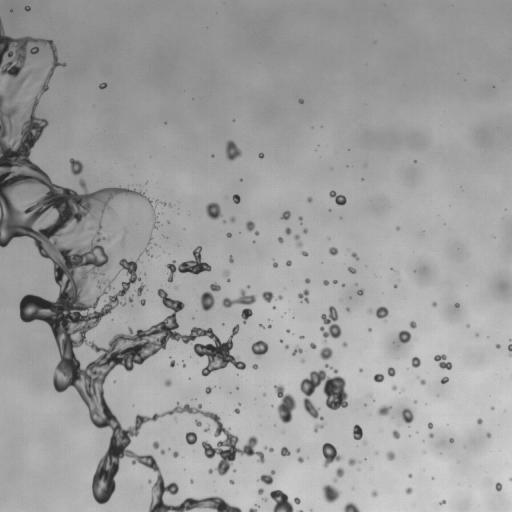droplet: (299, 363, 349, 419), (269, 489, 301, 511), (321, 442, 344, 468), (321, 484, 341, 503), (225, 140, 242, 161), (199, 291, 215, 312), (367, 306, 388, 322), (205, 202, 223, 220), (251, 340, 268, 359), (433, 354, 452, 370), (256, 469, 275, 485), (329, 190, 346, 205), (69, 158, 83, 175), (245, 220, 259, 235), (241, 308, 253, 324), (376, 404, 392, 416), (333, 467, 345, 483), (297, 288, 309, 303), (401, 408, 413, 423), (398, 330, 411, 343), (185, 432, 197, 445), (313, 422, 327, 433), (347, 456, 361, 466), (261, 291, 273, 302), (291, 344, 302, 356), (208, 282, 221, 292), (215, 145, 226, 156), (27, 150, 38, 161), (219, 205, 230, 216), (162, 207, 173, 218), (286, 216, 297, 227), (22, 235, 33, 246), (290, 251, 301, 262), (43, 259, 54, 270), (212, 290, 223, 301), (47, 291, 58, 302), (39, 321, 50, 332), (177, 324, 188, 335), (287, 335, 298, 346), (325, 336, 336, 347), (243, 353, 254, 364), (420, 354, 431, 365), (313, 359, 324, 370), (45, 364, 56, 375), (101, 380, 112, 391), (293, 391, 304, 402), (318, 404, 329, 415), (291, 405, 302, 416), (391, 407, 402, 418), (270, 409, 281, 420), (397, 421, 408, 432), (101, 426, 112, 437), (388, 439, 399, 450), (118, 455, 129, 466), (86, 463, 97, 474), (331, 479, 342, 490), (162, 493, 173, 504), (225, 495, 236, 506), (334, 497, 345, 508), (140, 500, 151, 511), (222, 269, 231, 282), (411, 356, 421, 367), (205, 385, 216, 395), (280, 446, 290, 457), (280, 210, 290, 220), (169, 356, 178, 367), (373, 373, 384, 382), (232, 194, 241, 204), (328, 246, 338, 255), (391, 429, 400, 439), (386, 450, 395, 460), (387, 366, 395, 377), (96, 503, 107, 511), (248, 504, 260, 511), (3, 28, 12, 37), (50, 175, 59, 184), (75, 186, 84, 195), (224, 222, 233, 231), (348, 258, 357, 267), (46, 269, 55, 278), (216, 276, 225, 285), (229, 291, 238, 300), (255, 295, 264, 304), (193, 298, 202, 307), (335, 305, 344, 314), (336, 308, 345, 317), (269, 310, 278, 319), (234, 314, 243, 323), (140, 322, 149, 331), (84, 330, 93, 339), (299, 339, 308, 348), (114, 363, 123, 372), (325, 369, 334, 378), (315, 383, 324, 392), (109, 405, 118, 414), (193, 426, 202, 435), (196, 432, 205, 441), (235, 440, 244, 449), (193, 441, 202, 450), (100, 442, 109, 451), (151, 450, 160, 459), (288, 451, 297, 460), (212, 453, 221, 462), (329, 460, 338, 469), (148, 470, 157, 479), (404, 478, 413, 487), (264, 483, 273, 492), (316, 489, 325, 498), (267, 498, 276, 507), (203, 423, 211, 433), (347, 266, 356, 274), (440, 376, 449, 384), (494, 482, 502, 491), (437, 505, 448, 511), (351, 252, 359, 260), (164, 379, 172, 387), (284, 227, 291, 236), (239, 504, 248, 511), (99, 82, 107, 89), (356, 288, 364, 295), (275, 294, 283, 301), (409, 321, 416, 329), (194, 418, 201, 426), (152, 441, 159, 449), (485, 478, 492, 486), (257, 488, 264, 496), (272, 258, 278, 267), (306, 196, 313, 203), (309, 342, 316, 349), (297, 456, 304, 463), (405, 487, 412, 494), (3, 72, 10, 79), (33, 111, 40, 118), (33, 140, 40, 147), (235, 141, 242, 148), (219, 143, 226, 150), (234, 155, 241, 162), (78, 171, 85, 178), (62, 181, 69, 188), (86, 186, 93, 193), (207, 196, 214, 203), (155, 204, 162, 211), (200, 208, 207, 215), (206, 216, 213, 223), (214, 216, 221, 223), (282, 219, 289, 226), (239, 223, 246, 230), (279, 230, 286, 237), (299, 233, 306, 240), (11, 236, 18, 243), (329, 240, 336, 247), (294, 247, 301, 254), (140, 253, 147, 260), (278, 259, 285, 266), (225, 262, 232, 269), (199, 270, 206, 277), (133, 280, 140, 287), (301, 282, 308, 289), (244, 289, 251, 296), (124, 290, 131, 297), (132, 295, 139, 302), (195, 302, 202, 309), (175, 310, 182, 317), (100, 315, 107, 322), (316, 318, 323, 325), (403, 324, 410, 331), (467, 327, 474, 334), (122, 328, 129, 335), (106, 333, 113, 340), (478, 333, 485, 340), (326, 335, 333, 342), (336, 335, 343, 342), (219, 336, 226, 343), (166, 337, 173, 344), (500, 343, 507, 350), (315, 344, 322, 351), (228, 348, 235, 355), (54, 355, 61, 362), (325, 357, 332, 364), (405, 358, 412, 365), (226, 361, 233, 368), (245, 361, 252, 368), (380, 368, 387, 375), (441, 368, 448, 375), (336, 370, 343, 377), (104, 375, 111, 382), (318, 380, 325, 387), (67, 385, 74, 392), (342, 385, 349, 392), (344, 395, 351, 402), (275, 397, 282, 404), (105, 399, 112, 406), (189, 401, 196, 408), (375, 401, 382, 408), (209, 406, 216, 413), (303, 411, 310, 418), (196, 413, 203, 420), (380, 414, 387, 421), (275, 417, 282, 424), (285, 420, 292, 427), (120, 422, 127, 429), (140, 422, 147, 429), (210, 422, 217, 429), (191, 425, 198, 432), (347, 425, 354, 432), (229, 428, 236, 435), (218, 433, 225, 440), (125, 443, 132, 450), (252, 444, 259, 451), (273, 447, 280, 454), (135, 448, 142, 455), (262, 449, 269, 456), (393, 449, 400, 456), (251, 453, 258, 460), (353, 453, 360, 460), (380, 453, 387, 460), (155, 458, 162, 465), (134, 461, 141, 468), (212, 469, 219, 476), (112, 474, 119, 481), (86, 475, 93, 482), (150, 475, 157, 482), (259, 481, 266, 488), (110, 491, 117, 498), (191, 492, 198, 499), (286, 496, 293, 503), (354, 501, 361, 508), (291, 503, 298, 510), (371, 489, 377, 497), (438, 499, 446, 505), (190, 506, 199, 511), (258, 152, 264, 159), (229, 216, 235, 223), (277, 236, 283, 243), (285, 260, 292, 266), (139, 299, 145, 306), (391, 384, 397, 391), (476, 418, 482, 425), (427, 422, 433, 429), (172, 451, 179, 457), (261, 496, 268, 502), (24, 5, 30, 11), (302, 228, 308, 234), (431, 301, 437, 307), (22, 0, 31, 4), (454, 302, 459, 309), (399, 387, 404, 394), (233, 408, 240, 413), (229, 255, 233, 263), (304, 278, 310, 283), (323, 280, 329, 285), (345, 307, 350, 313), (259, 323, 264, 329), (474, 332, 479, 338), (342, 341, 347, 347), (284, 344, 289, 350), (252, 364, 258, 369), (486, 432, 491, 438), (449, 437, 454, 443), (295, 447, 300, 453), (298, 98, 303, 103), (226, 232, 231, 237), (332, 279, 337, 284), (285, 328, 290, 333), (300, 358, 305, 363), (428, 433, 433, 438), (160, 449, 165, 454), (229, 479, 234, 484), (31, 33, 36, 38), (46, 34, 51, 39), (52, 40, 57, 45), (56, 57, 61, 62), (55, 65, 60, 70), (44, 115, 49, 120), (42, 127, 47, 132), (73, 155, 78, 160), (80, 159, 85, 164), (66, 161, 71, 166), (38, 164, 43, 169), (81, 166, 86, 171), (113, 182, 118, 187), (103, 183, 108, 188), (121, 183, 126, 188), (98, 184, 103, 189), (128, 185, 133, 190), (144, 191, 149, 196), (305, 192, 310, 197), (238, 193, 243, 198), (302, 195, 307, 200), (311, 195, 316, 200), (159, 196, 164, 201), (330, 196, 335, 201), (345, 198, 350, 203), (303, 200, 308, 205), (310, 200, 315, 205), (337, 204, 342, 209), (250, 217, 255, 222), (253, 225, 258, 230), (306, 226, 311, 231), (249, 229, 254, 234), (289, 231, 294, 236), (298, 231, 303, 236), (333, 243, 338, 248), (33, 246, 38, 251), (302, 246, 307, 251), (336, 246, 341, 251), (350, 247, 355, 252), (148, 249, 153, 254), (346, 251, 351, 256), (356, 252, 361, 257), (330, 254, 335, 259), (189, 255, 194, 260), (224, 255, 229, 260), (350, 256, 355, 261), (45, 257, 50, 262), (200, 257, 205, 262), (290, 261, 295, 266), (136, 263, 141, 268), (134, 269, 139, 274), (174, 269, 179, 274), (185, 271, 190, 276), (305, 273, 310, 278), (300, 275, 305, 280), (327, 277, 332, 282), (336, 280, 341, 285), (328, 281, 333, 286), (241, 284, 246, 289), (356, 284, 361, 289), (264, 286, 269, 291), (141, 287, 146, 292), (206, 287, 211, 292), (152, 289, 157, 294), (198, 290, 203, 295), (210, 290, 215, 295), (272, 293, 277, 298), (138, 294, 143, 299), (306, 294, 311, 299), (117, 295, 122, 300), (431, 296, 436, 301), (16, 297, 21, 302), (270, 297, 275, 302), (427, 299, 432, 304), (125, 301, 130, 306), (376, 302, 381, 307), (243, 303, 248, 308), (385, 304, 390, 309), (435, 304, 440, 309), (431, 306, 436, 311), (208, 307, 213, 312), (371, 307, 376, 312), (15, 308, 20, 313), (110, 308, 115, 313), (168, 308, 173, 313), (324, 310, 329, 315), (371, 312, 376, 317), (247, 315, 252, 320), (383, 315, 388, 320), (16, 316, 21, 321), (158, 316, 163, 321), (408, 316, 413, 321), (378, 317, 383, 322), (334, 319, 339, 324), (20, 320, 25, 325), (415, 321, 420, 326), (238, 322, 243, 327), (202, 325, 207, 330), (339, 326, 344, 331), (212, 329, 217, 334), (227, 329, 232, 334), (185, 330, 190, 335), (318, 330, 323, 335), (409, 335, 414, 340), (231, 336, 236, 341), (394, 336, 399, 341), (252, 337, 257, 342), (262, 337, 267, 342), (177, 338, 182, 343), (282, 339, 287, 344), (399, 341, 404, 346), (404, 341, 409, 346), (96, 342, 101, 347), (279, 342, 284, 347), (52, 343, 57, 348), (104, 344, 109, 349), (342, 346, 347, 351), (288, 347, 293, 352), (158, 348, 163, 353), (247, 348, 252, 353), (153, 352, 158, 357), (330, 352, 335, 357), (193, 353, 198, 358), (259, 353, 264, 358), (416, 353, 421, 358), (202, 354, 207, 359), (323, 358, 328, 363), (419, 358, 424, 363), (142, 359, 147, 364), (165, 359, 170, 364), (434, 360, 439, 365), (450, 361, 455, 366), (389, 362, 394, 367), (332, 364, 337, 369), (450, 365, 455, 370), (414, 366, 419, 371), (314, 367, 319, 372), (216, 368, 221, 373), (237, 368, 242, 373), (128, 369, 133, 374), (374, 369, 379, 374), (209, 370, 214, 375), (383, 372, 388, 377), (369, 373, 374, 378), (419, 374, 424, 379), (160, 377, 165, 382), (297, 377, 302, 382), (424, 377, 429, 382), (170, 378, 175, 383), (415, 379, 420, 384), (373, 380, 378, 385), (169, 383, 174, 388), (49, 384, 54, 389), (420, 384, 425, 389), (395, 386, 400, 391), (102, 392, 107, 397), (75, 393, 80, 398), (80, 401, 85, 406), (384, 401, 389, 406), (179, 402, 184, 407), (233, 403, 238, 408), (168, 405, 173, 410), (237, 405, 242, 410), (200, 406, 205, 411), (398, 406, 403, 411), (387, 408, 392, 413), (156, 409, 161, 414), (182, 410, 187, 415), (411, 410, 416, 415), (139, 411, 144, 416), (172, 411, 177, 416), (147, 412, 152, 417), (164, 413, 169, 418), (156, 416, 161, 421), (472, 416, 477, 421), (314, 417, 319, 422), (400, 419, 405, 424), (481, 419, 486, 424), (472, 420, 477, 425), (408, 421, 413, 426), (222, 423, 227, 428), (91, 424, 96, 429), (360, 425, 365, 430), (186, 427, 191, 432), (361, 428, 366, 433), (427, 428, 432, 433), (410, 431, 415, 436), (388, 432, 393, 437), (490, 432, 495, 437), (481, 433, 486, 438), (129, 435, 134, 440), (424, 435, 429, 440), (152, 436, 157, 441), (390, 436, 395, 441), (181, 437, 186, 442), (357, 438, 362, 443), (331, 441, 336, 446), (211, 443, 216, 448), (157, 445, 162, 450), (286, 445, 291, 450), (199, 447, 204, 452), (317, 448, 322, 453), (168, 449, 173, 454), (177, 451, 182, 456), (297, 451, 302, 456), (283, 454, 288, 459), (202, 455, 207, 460), (320, 455, 325, 460), (128, 456, 133, 461), (302, 457, 307, 462), (389, 459, 394, 464), (294, 460, 299, 465), (353, 462, 358, 467), (203, 467, 208, 472), (227, 467, 232, 472), (265, 470, 270, 475), (342, 472, 347, 477), (271, 474, 276, 479), (337, 476, 342, 481), (163, 481, 168, 486), (176, 482, 181, 487), (403, 483, 408, 488), (490, 484, 495, 489), (500, 486, 505, 491), (87, 487, 92, 492), (281, 488, 286, 493), (400, 488, 405, 493), (411, 488, 416, 493), (366, 490, 371, 495), (376, 490, 381, 495), (207, 492, 212, 497), (89, 495, 94, 500), (371, 496, 376, 501), (91, 498, 96, 503), (396, 226, 400, 231), (173, 286, 178, 290), (495, 344, 500, 348), (358, 368, 363, 372), (413, 399, 417, 404), (374, 450, 378, 455), (408, 473, 412, 478), (190, 478, 193, 484), (222, 219, 226, 223), (341, 283, 345, 287), (354, 282, 358, 286), (246, 285, 250, 289), (393, 284, 397, 288), (267, 324, 271, 328), (279, 339, 283, 343), (262, 392, 266, 396), (237, 402, 241, 406), (490, 406, 494, 410), (462, 445, 466, 449), (267, 318, 272, 321), (256, 508, 261, 511), (303, 508, 308, 511), (312, 508, 317, 511), (232, 118, 235, 122), (413, 160, 417, 163), (145, 180, 148, 184), (166, 220, 170, 223), (252, 239, 255, 243), (272, 306, 276, 309), (466, 324, 470, 327), (422, 450, 426, 453), (232, 469, 236, 472), (356, 468, 360, 471), (508, 477, 511, 481), (148, 479, 151, 483), (351, 486, 354, 490), (309, 508, 313, 511), (0, 66, 2, 71), (0, 245, 2, 250), (211, 154, 214, 157), (328, 208, 331, 211), (339, 216, 342, 219), (327, 237, 330, 240), (413, 269, 416, 272), (291, 316, 294, 319), (368, 328, 371, 331), (113, 380, 116, 383), (436, 394, 439, 397), (364, 403, 367, 406), (270, 404, 273, 407), (503, 409, 506, 412), (408, 434, 411, 437), (431, 476, 434, 479), (24, 2, 27, 5), (29, 4, 32, 7), (21, 5, 24, 8), (6, 8, 9, 11), (12, 8, 15, 11), (23, 9, 26, 12), (28, 9, 31, 12), (8, 11, 11, 14), (65, 62, 68, 65), (63, 65, 66, 68), (50, 75, 53, 78), (101, 79, 104, 82), (96, 82, 99, 85), (106, 82, 109, 85), (47, 83, 50, 86), (494, 84, 497, 87), (96, 86, 99, 89), (102, 87, 105, 90), (491, 87, 494, 90), (44, 90, 47, 93), (303, 99, 306, 102), (299, 103, 302, 106), (229, 117, 232, 120), (163, 118, 166, 121), (234, 119, 237, 122), (166, 120, 169, 123), (162, 123, 165, 126), (347, 145, 350, 148), (316, 146, 319, 149), (258, 149, 261, 152), (347, 150, 350, 153), (209, 151, 212, 154), (213, 152, 216, 155), (255, 154, 258, 157), (263, 154, 266, 157), (209, 156, 212, 159), (413, 156, 416, 159), (257, 157, 260, 160), (416, 159, 419, 162), (345, 161, 348, 164), (412, 162, 415, 165), (348, 164, 351, 167), (362, 175, 365, 178), (357, 177, 360, 180), (143, 178, 146, 181), (236, 178, 239, 181), (242, 178, 245, 181), (361, 180, 364, 183), (239, 181, 242, 184), (146, 182, 149, 185), (135, 188, 138, 191), (328, 188, 331, 191), (234, 191, 237, 194), (326, 193, 329, 196), (229, 196, 232, 199), (165, 200, 168, 203), (151, 201, 154, 204), (170, 202, 173, 205), (233, 202, 236, 205), (176, 209, 179, 212), (154, 210, 157, 213), (326, 210, 329, 213), (279, 213, 282, 216), (299, 213, 302, 216), (282, 218, 285, 221), (169, 219, 172, 222), (297, 219, 300, 222), (301, 219, 304, 222), (154, 222, 157, 225), (167, 223, 170, 226), (397, 223, 400, 226), (393, 224, 396, 227), (157, 226, 160, 229), (153, 227, 156, 230), (399, 227, 402, 230), (393, 228, 396, 231), (227, 229, 230, 232), (258, 231, 261, 234), (306, 231, 309, 234), (164, 233, 167, 236), (231, 233, 234, 236), (224, 235, 227, 238), (227, 237, 230, 240), (150, 239, 153, 242), (275, 239, 278, 242), (253, 242, 256, 245), (146, 245, 149, 248), (191, 247, 194, 250), (142, 251, 145, 254), (199, 251, 202, 254), (228, 251, 231, 254), (307, 252, 310, 255), (139, 255, 142, 258), (147, 255, 150, 258), (302, 255, 305, 258), (151, 256, 154, 259), (231, 256, 234, 259), (274, 259, 277, 262), (169, 260, 172, 263), (270, 260, 273, 263), (207, 262, 210, 265), (269, 263, 272, 266), (320, 263, 323, 266), (389, 264, 392, 267), (286, 265, 289, 268), (275, 266, 278, 269), (392, 266, 395, 269), (210, 267, 213, 270), (355, 269, 358, 272), (389, 269, 392, 272), (346, 270, 349, 273), (333, 276, 336, 279), (140, 278, 143, 281), (210, 280, 213, 283), (320, 280, 323, 283), (168, 281, 171, 284), (227, 281, 230, 284), (248, 282, 251, 285), (321, 283, 324, 286), (390, 284, 393, 287), (396, 284, 399, 287), (343, 285, 346, 288), (393, 287, 396, 290), (362, 291, 365, 294), (280, 292, 283, 295), (356, 294, 359, 297), (360, 294, 363, 297), (300, 297, 303, 300), (457, 300, 460, 303), (144, 301, 147, 304), (436, 301, 439, 304), (117, 303, 120, 306), (138, 303, 141, 306), (459, 303, 462, 306), (347, 304, 350, 307), (275, 305, 278, 308), (349, 307, 352, 310), (454, 307, 457, 310), (272, 308, 275, 311), (283, 308, 286, 311), (282, 313, 285, 316), (290, 313, 293, 316), (318, 313, 321, 316), (294, 315, 297, 318), (269, 316, 272, 319), (291, 318, 294, 321), (219, 320, 222, 323), (258, 320, 261, 323), (264, 324, 267, 327), (368, 324, 371, 327), (469, 324, 472, 327), (270, 325, 273, 328), (259, 326, 262, 329), (284, 326, 287, 329), (364, 327, 367, 330), (371, 327, 374, 330), (466, 327, 469, 330), (289, 329, 292, 332), (475, 329, 478, 332), (284, 331, 287, 334), (300, 332, 303, 335), (478, 332, 481, 335), (486, 332, 489, 335), (280, 336, 283, 339), (276, 339, 279, 342), (495, 340, 498, 343), (492, 344, 495, 347), (309, 347, 312, 350), (494, 347, 497, 350), (505, 348, 508, 351), (301, 350, 304, 353), (295, 351, 298, 354), (438, 352, 441, 355), (411, 354, 414, 357), (431, 354, 434, 357), (171, 356, 174, 359), (183, 360, 186, 363), (180, 361, 183, 364), (185, 363, 188, 366), (359, 365, 362, 368), (169, 366, 172, 369), (182, 367, 185, 370), (252, 368, 255, 371), (355, 368, 358, 371), (362, 368, 365, 371), (394, 369, 397, 372), (198, 370, 201, 373), (359, 371, 362, 374), (185, 375, 188, 378), (202, 375, 205, 378), (439, 376, 442, 379), (187, 379, 190, 382), (115, 380, 118, 383), (445, 381, 448, 384), (275, 382, 278, 385), (209, 384, 212, 387), (233, 384, 236, 387), (215, 385, 218, 388), (238, 387, 241, 390), (228, 388, 231, 391), (233, 388, 236, 391), (210, 389, 213, 392), (202, 390, 205, 393), (400, 391, 403, 394), (226, 392, 229, 395), (259, 392, 262, 395), (414, 396, 417, 399), (369, 398, 372, 401), (239, 400, 242, 403), (364, 400, 367, 403), (416, 400, 419, 403), (360, 403, 363, 406), (365, 405, 368, 408), (487, 406, 490, 409), (490, 409, 493, 412), (232, 411, 235, 414), (428, 419, 431, 422), (425, 420, 428, 423), (432, 423, 435, 426), (323, 424, 326, 427), (424, 424, 427, 427), (310, 427, 313, 430), (317, 427, 320, 430), (312, 431, 315, 434), (449, 434, 452, 437), (432, 435, 435, 438), (446, 439, 449, 442), (452, 441, 455, 444), (295, 445, 298, 448), (266, 446, 269, 449), (176, 455, 179, 458), (365, 455, 368, 458), (361, 458, 364, 461), (274, 470, 277, 473), (407, 470, 410, 473), (208, 473, 211, 476), (411, 473, 414, 476), (433, 474, 436, 477), (257, 475, 260, 478), (405, 475, 408, 478), (428, 476, 431, 479), (187, 479, 190, 482), (192, 479, 195, 482), (233, 479, 236, 482), (431, 479, 434, 482), (499, 480, 502, 483), (229, 483, 232, 486), (497, 490, 500, 493), (297, 495, 300, 498), (439, 498, 442, 501), (445, 500, 448, 503), (441, 503, 444, 506), (168, 447, 170, 451), (164, 121, 166, 124), (240, 178, 242, 181), (361, 178, 364, 180), (144, 272, 146, 275), (349, 296, 351, 299), (111, 318, 113, 321), (486, 336, 489, 338), (509, 338, 511, 341), (406, 367, 408, 370), (236, 386, 238, 389), (254, 397, 256, 400), (391, 415, 393, 418), (415, 431, 418, 433), (509, 335, 511, 338), (509, 340, 511, 343), (509, 356, 511, 359), (509, 474, 511, 477), (10, 9, 12, 11), (492, 85, 494, 87), (311, 126, 313, 128), (317, 144, 319, 146), (346, 165, 348, 167), (504, 208, 506, 210), (321, 261, 323, 263), (146, 289, 148, 291), (284, 312, 286, 314), (222, 323, 224, 325), (292, 333, 294, 335), (189, 355, 191, 357), (188, 377, 190, 379), (425, 403, 427, 405), (132, 404, 134, 406), (274, 424, 276, 426), (408, 425, 410, 427), (446, 424, 448, 426), (422, 440, 424, 442), (364, 458, 366, 460), (0, 212, 1, 215), (237, 373, 238, 375), (229, 392, 231, 393), (190, 399, 192, 400), (307, 457, 308, 459), (348, 149, 349, 150), (239, 232, 240, 233), (184, 469, 185, 470)
ligament: (319, 306, 341, 360), (274, 384, 297, 423), (222, 288, 257, 308), (293, 234, 308, 256), (352, 424, 367, 445), (342, 501, 361, 511), (415, 376, 426, 385), (127, 295, 133, 307), (263, 445, 273, 452), (367, 394, 375, 402), (507, 344, 511, 357), (298, 216, 303, 225), (182, 359, 186, 368), (298, 335, 306, 339), (390, 267, 397, 271), (162, 234, 168, 238), (153, 243, 160, 246), (174, 416, 177, 422), (296, 509, 303, 511), (156, 255, 159, 258), (176, 213, 179, 215), (191, 317, 194, 319), (139, 185, 141, 186)
